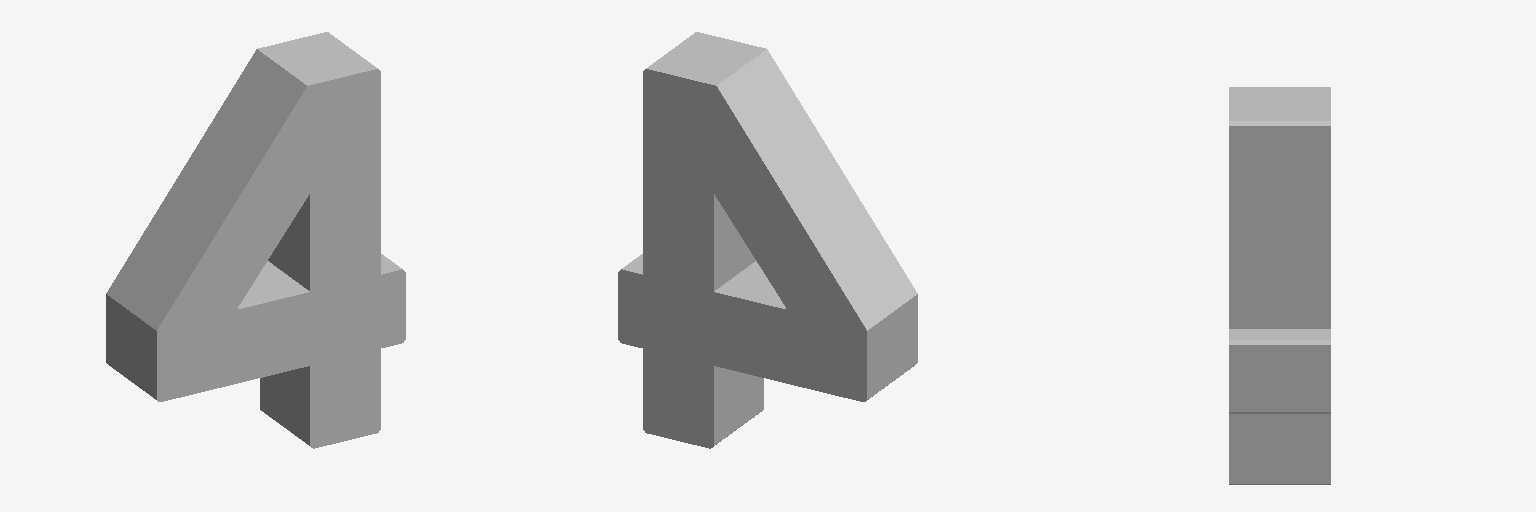
The picture shows the model from 3 angles: view 1: azimuth 30°, elevation 25°; view 2: azimuth 150°, elevation 25°; view 3: azimuth 270°, elevation 25°; orthographic projection.
Parts seen in each view (by area): view 1: text: ABCDEFGHIJKLMNOPQRSTUVWXYZ[number redacted]; view 2: text: ABCDEFGHIJKLMNOPQRSTUVWXYZ[number redacted]; view 3: text: ABCDEFGHIJKLMNOPQRSTUVWXYZ[number redacted].
Boxes of the visible parts, x1=… form: text: ABCDEFGHIJKLMNOPQRSTUVWXYZ[number redacted]: x1=106, y1=32, x2=405, y2=448; text: ABCDEFGHIJKLMNOPQRSTUVWXYZ[number redacted]: x1=618, y1=32, x2=917, y2=448; text: ABCDEFGHIJKLMNOPQRSTUVWXYZ[number redacted]: x1=1229, y1=87, x2=1330, y2=484.
Bounding box in the file's own units: 71.06 × 99.29 × 25.